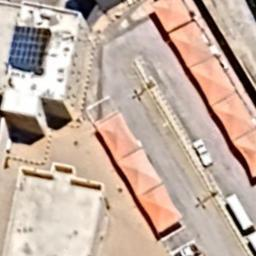sedan: (192, 138, 212, 167)
